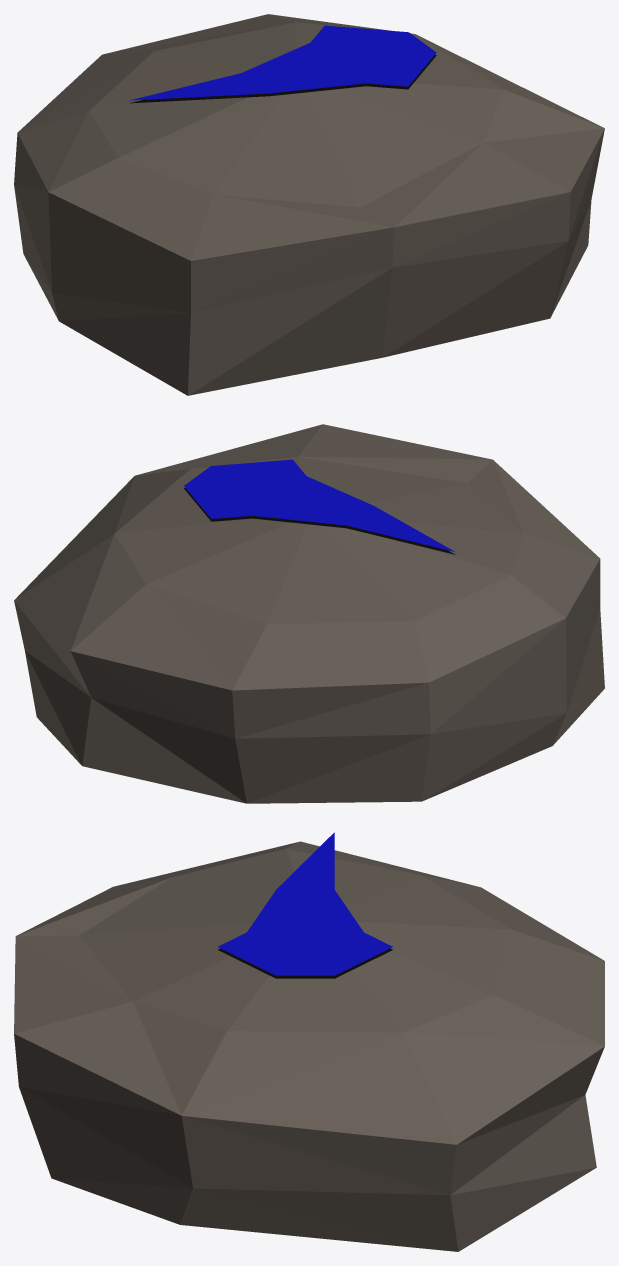
The model's file is altar-water.obj.
The picture shows the model from 3 angles, top to bottom: view 1: azimuth 30°, elevation 25°; view 2: azimuth 150°, elevation 25°; view 3: azimuth 270°, elevation 25°; orthographic projection. The views are drawn at different scales.
Parts seen in each view (by area): view 1: altar-water; view 2: altar-water; view 3: altar-water.
Boxes of the visible parts, left/top/right/bottom form: altar-water: left=14, top=14, right=604, bottom=395; altar-water: left=14, top=424, right=604, bottom=803; altar-water: left=14, top=832, right=604, bottom=1251.
Size of the model in its own units: 373 by 155 by 363.
